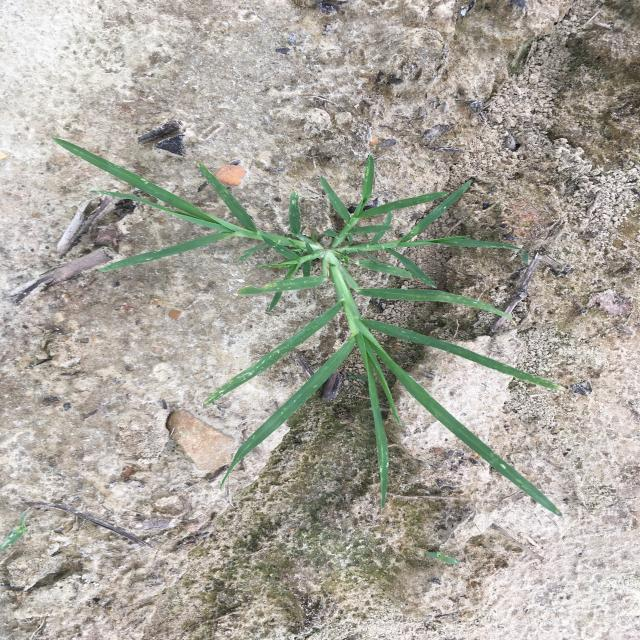Goosegrass: (51, 136, 564, 516)
